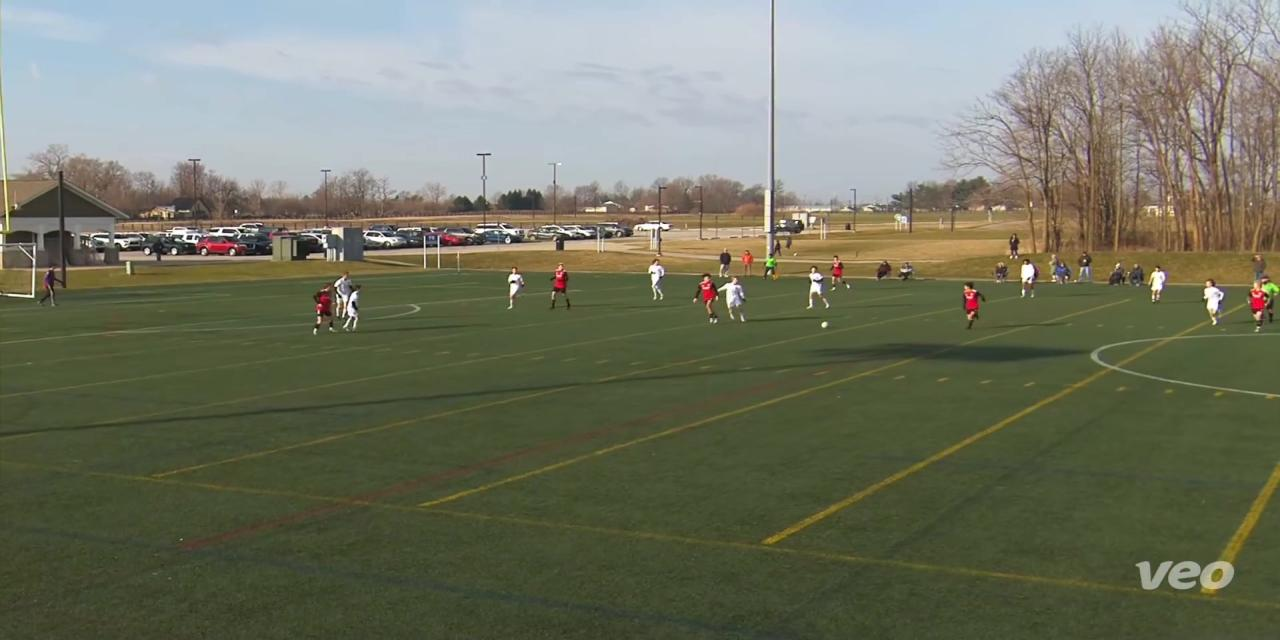sports ball: (815, 316, 834, 334)
